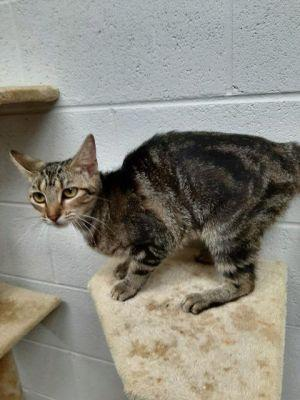bengal: (7, 134, 105, 237)
